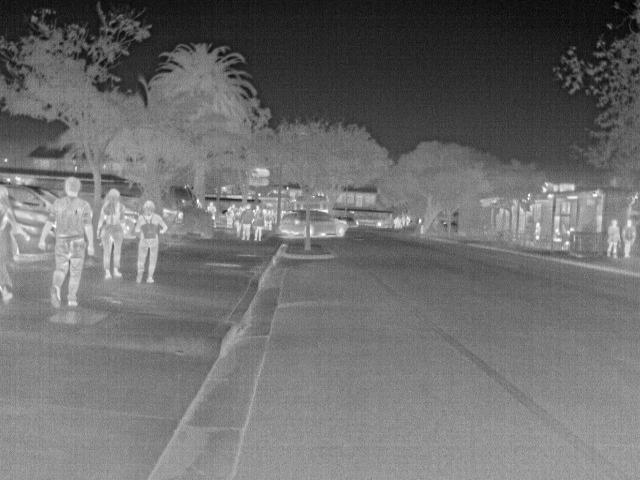car: (3, 182, 59, 256), (311, 209, 347, 239), (277, 210, 304, 240), (339, 215, 360, 227)
person: (39, 174, 97, 312), (1, 182, 31, 301), (133, 199, 171, 285), (98, 188, 127, 280), (619, 216, 638, 258), (606, 218, 623, 260), (252, 207, 268, 243), (239, 203, 253, 242), (206, 200, 220, 220), (264, 208, 276, 230), (532, 219, 544, 241), (225, 206, 237, 227), (553, 227, 565, 242)
